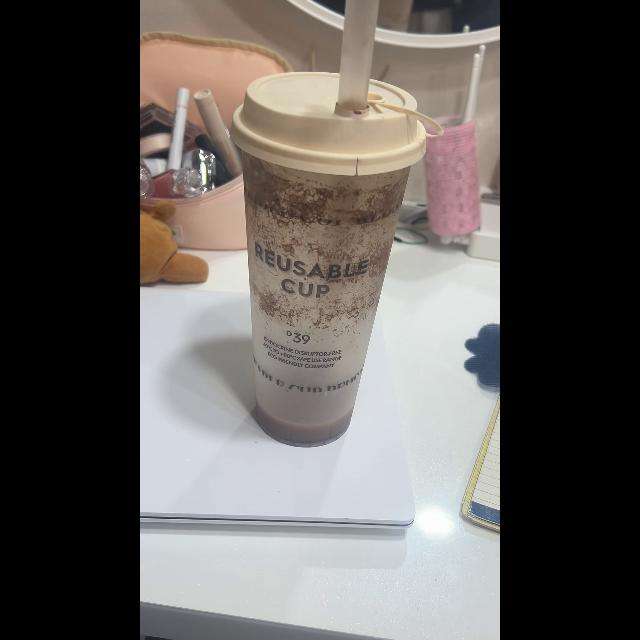dirty: (242, 72, 392, 446)
